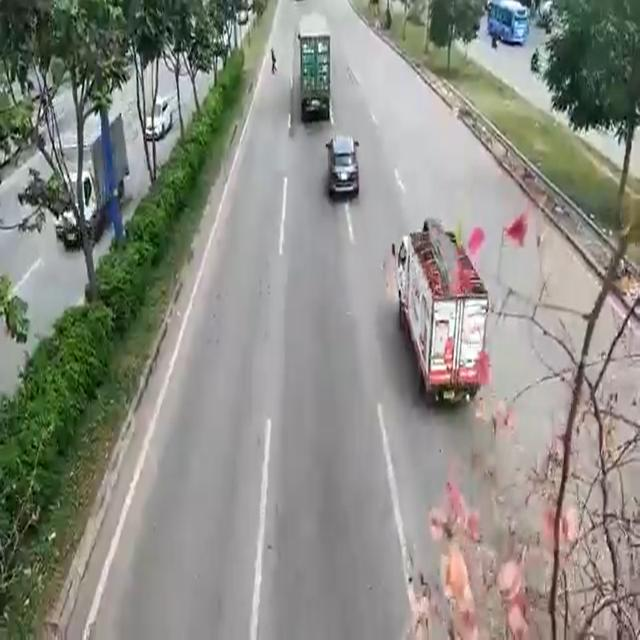car: (327, 137, 354, 200)
truck: (396, 222, 486, 410), (298, 18, 332, 118)
